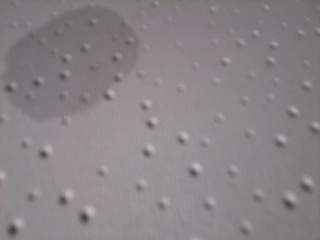Water_detected: (43, 19, 148, 100)
